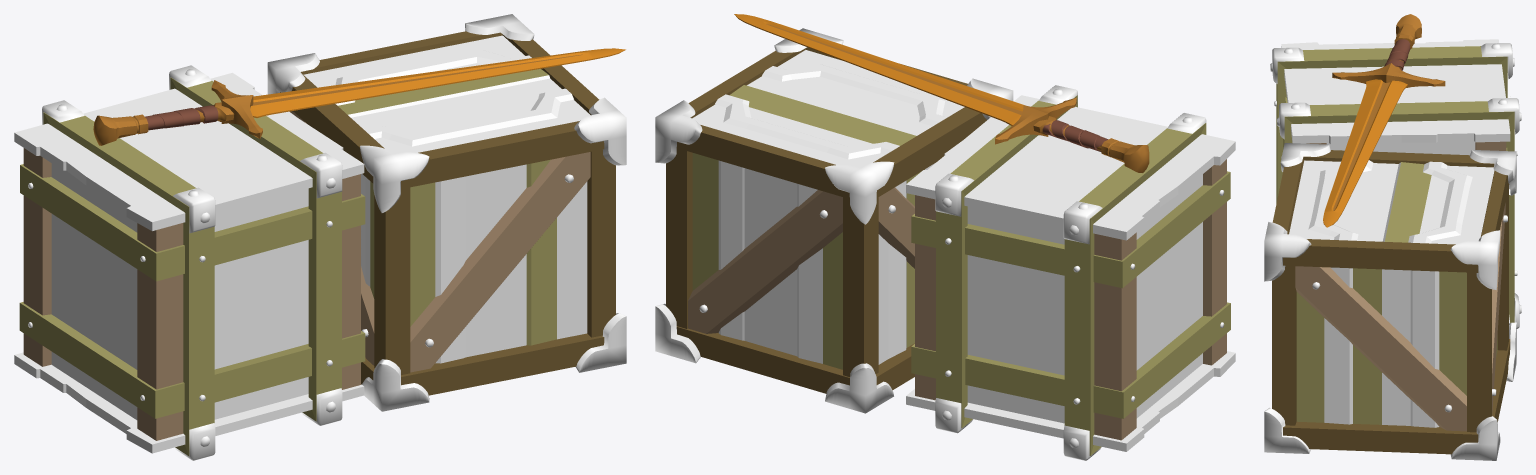
The model's file is ammo_crates.glb.
The picture shows the model from 3 angles, left to right: view 1: azimuth 30°, elevation 25°; view 2: azimuth 150°, elevation 25°; view 3: azimuth 270°, elevation 25°; orthographic projection. The views are drawn at different scales.
Parts seen in each view (by area): view 1: Cube017, Cube035, Cube035_1, Sword_Bronze, Cube017_1; view 2: Cube017, Cube035, Cube035_1, Sword_Bronze, Cube017_1; view 3: Cube035, Cube035_1, Cube017, Sword_Bronze, Cube017_1.
Boxes of the visible parts, bbox=[...] form: Cube017: bbox=[14, 72, 365, 455]; Cube035: bbox=[291, 35, 590, 372]; Cube035_1: bbox=[267, 14, 626, 411]; Sword_Bronze: bbox=[93, 48, 625, 145]; Cube017_1: bbox=[28, 65, 342, 460]; Cube017: bbox=[906, 95, 1235, 455]; Cube035: bbox=[688, 50, 964, 369]; Cube035_1: bbox=[655, 28, 1013, 413]; Sword_Bronze: bbox=[734, 14, 1149, 172]; Cube017_1: bbox=[935, 85, 1224, 460]; Cube035: bbox=[1289, 160, 1505, 431]; Cube035_1: bbox=[1264, 143, 1516, 460]; Cube017: bbox=[1276, 39, 1514, 323]; Sword_Bronze: bbox=[1323, 14, 1445, 227]; Cube017_1: bbox=[1270, 43, 1521, 328].
Size of the model in its own units: 1.89 by 1.04 by 0.9557.
